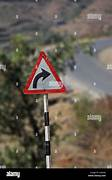right: (23, 50, 67, 94)
